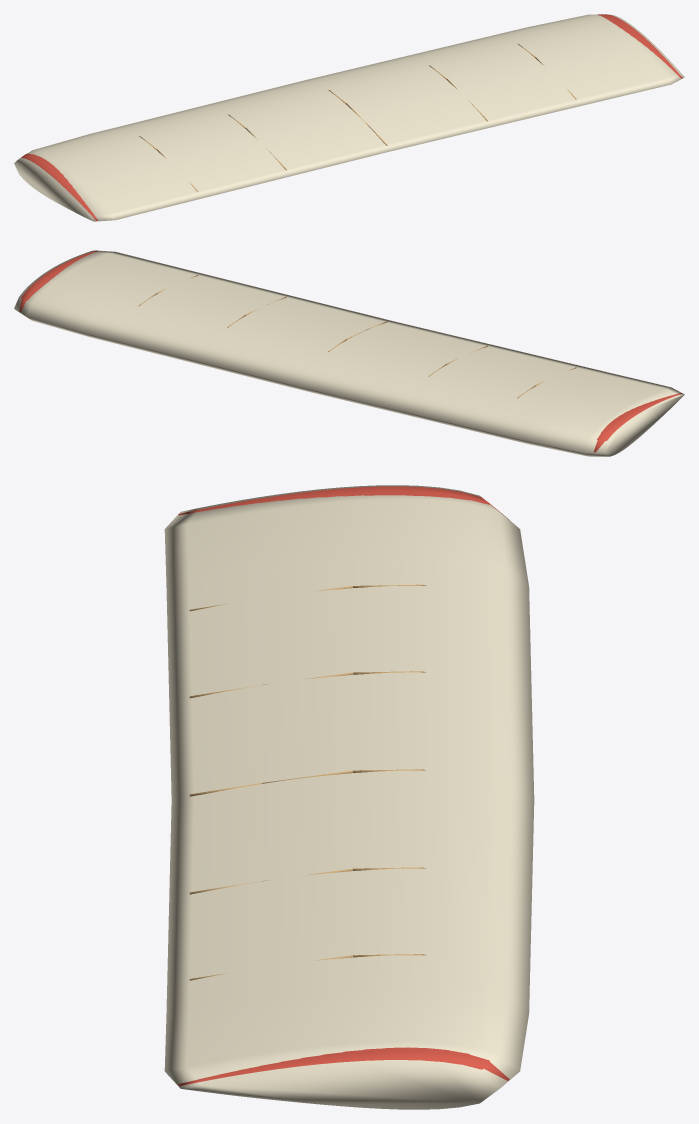
The model's file is large_wing.glb.
3 renders of one model, top to bottom at view 1: azimuth 30°, elevation 25°; view 2: azimuth 150°, elevation 25°; view 3: azimuth 270°, elevation 25°, orthographic. The views are drawn at different scales.
Visible parts, largest first — view 1: large_wing_Ivory, large_wing_Paint, large_wing_WoodLight; view 2: large_wing_Ivory, large_wing_Paint, large_wing_WoodLight; view 3: large_wing_Ivory, large_wing_Paint, large_wing_WoodLight.
Part boxes in pixels (x1,y1,x2,y2): large_wing_Ivory: [14, 14, 684, 221]; large_wing_Paint: [21, 14, 682, 220]; large_wing_WoodLight: [139, 43, 576, 191]; large_wing_Ivory: [14, 250, 684, 456]; large_wing_Paint: [19, 250, 682, 452]; large_wing_WoodLight: [139, 275, 576, 398]; large_wing_Ivory: [164, 485, 534, 1109]; large_wing_Paint: [178, 486, 509, 1085]; large_wing_WoodLight: [189, 584, 426, 980].
Bounding box in the file's own units: 3.2 × 0.1583 × 0.8662.
